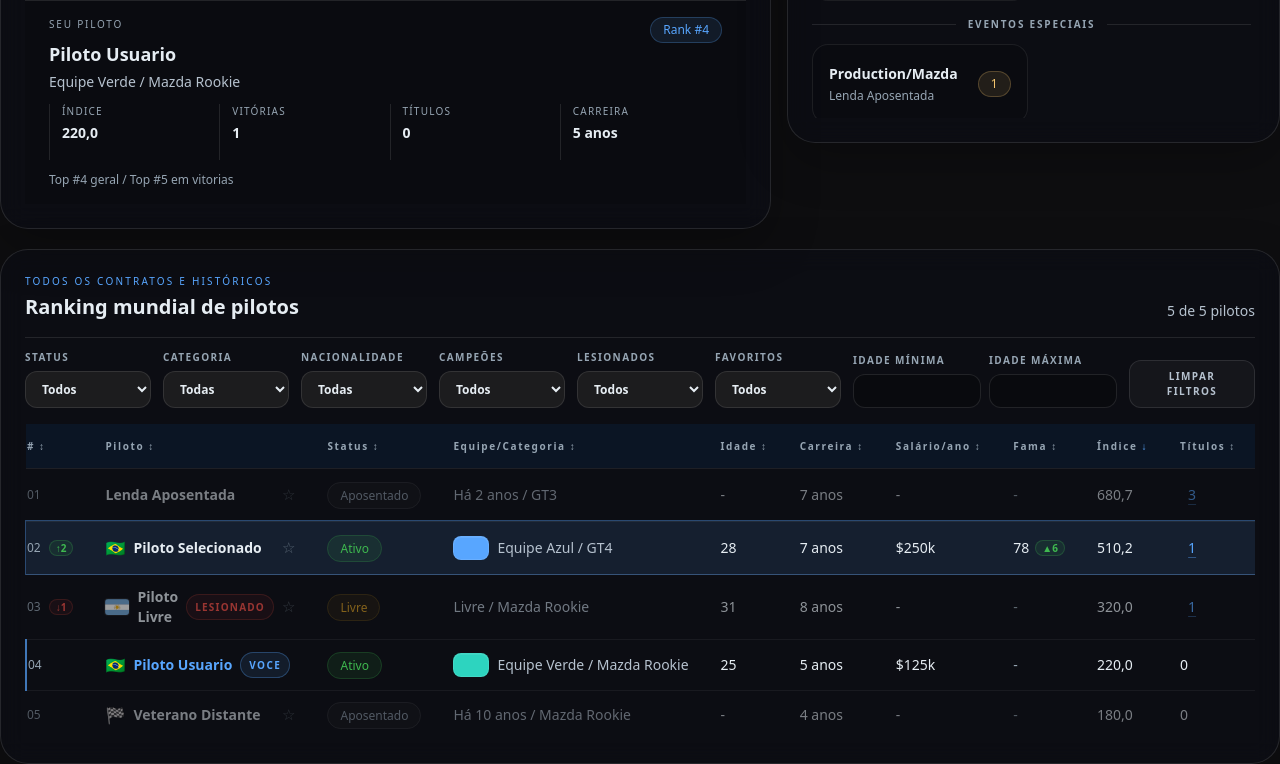
Test: GlobalDriversTab › opens a title breakdown popup from the titles number
The width and height of the screenshot is (1280, 764).
(page scrolled)
Click the button named "Ver títulos de Lenda Aposentada" at (1192, 494), box 1180,480 -> 1204,508
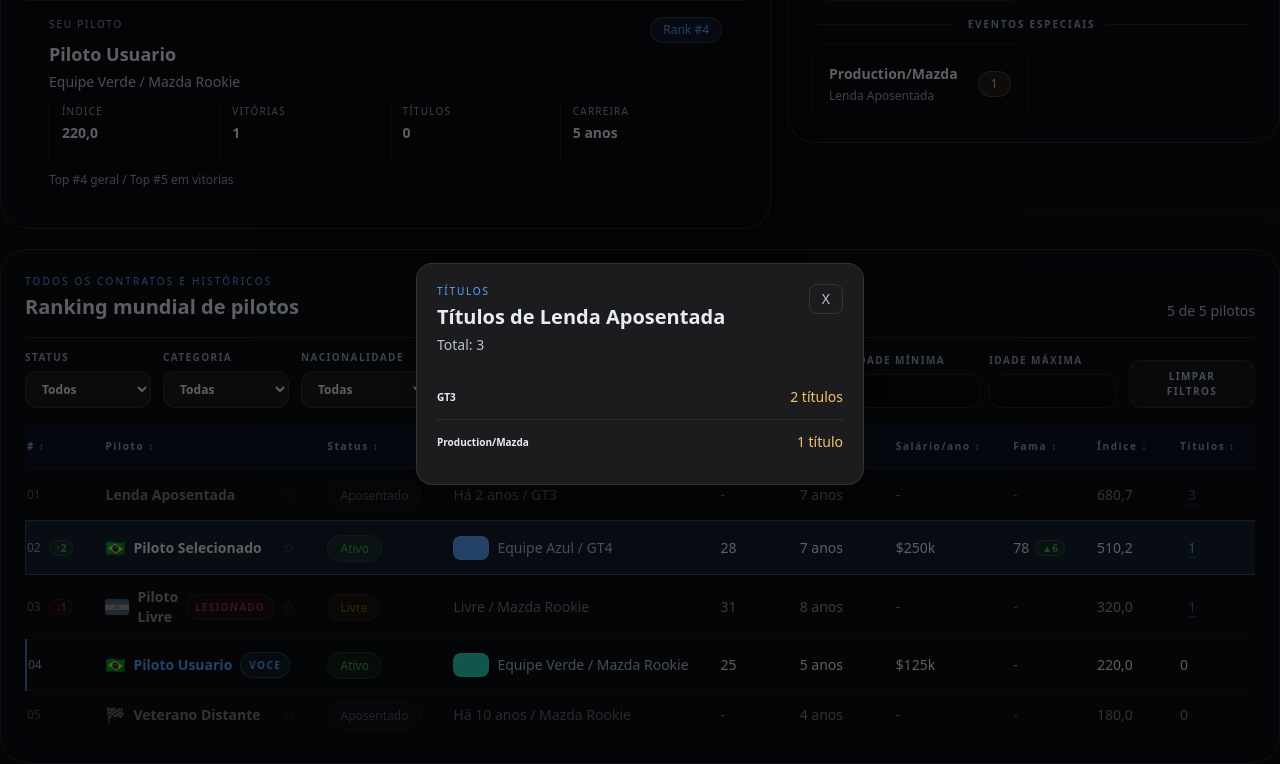
Check: the text "Total: 3" is shown, box 437,335 -> 484,354
Check: the text "GT3" is shown, box 437,390 -> 456,404
Check: the text "2 títulos" is shown, box 790,387 -> 843,407
Click the button named "Fechar títulos" at (826, 299), box 809,284 -> 843,314
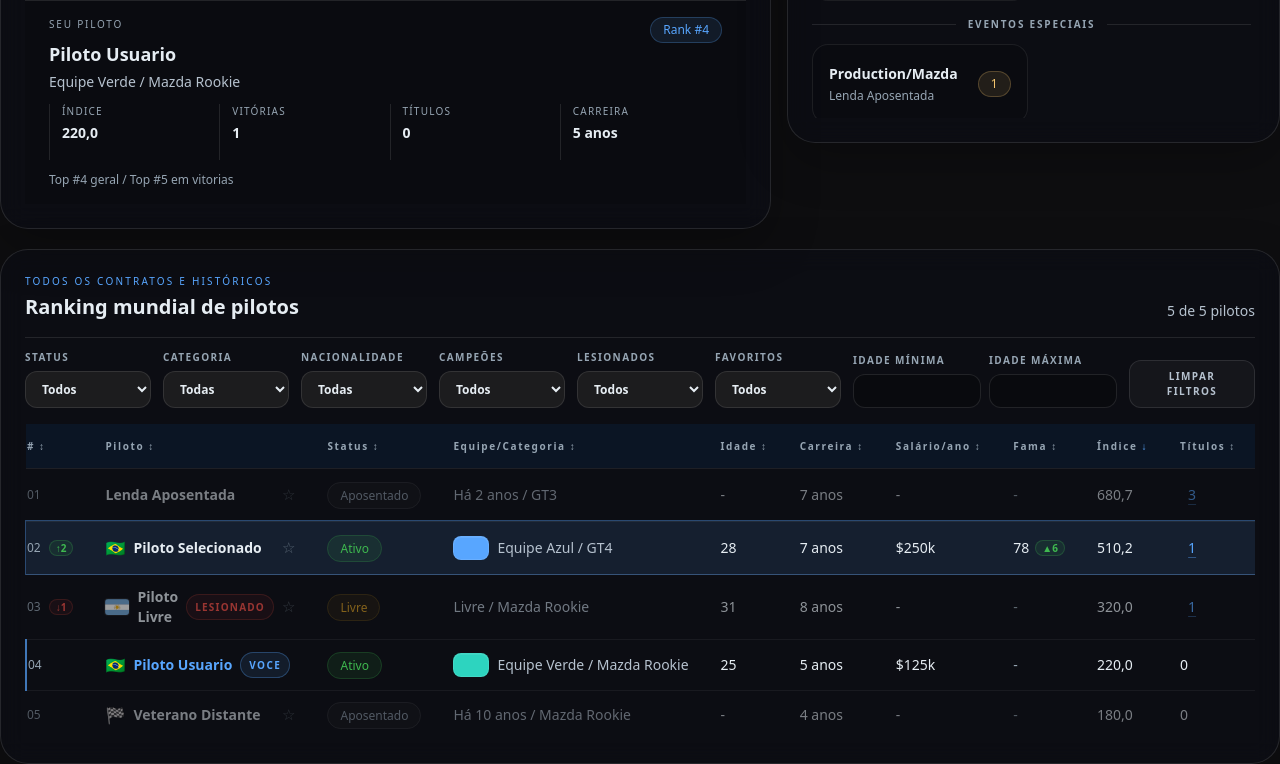
Check: the heading "Títulos de Lenda Aposentada" is gone
